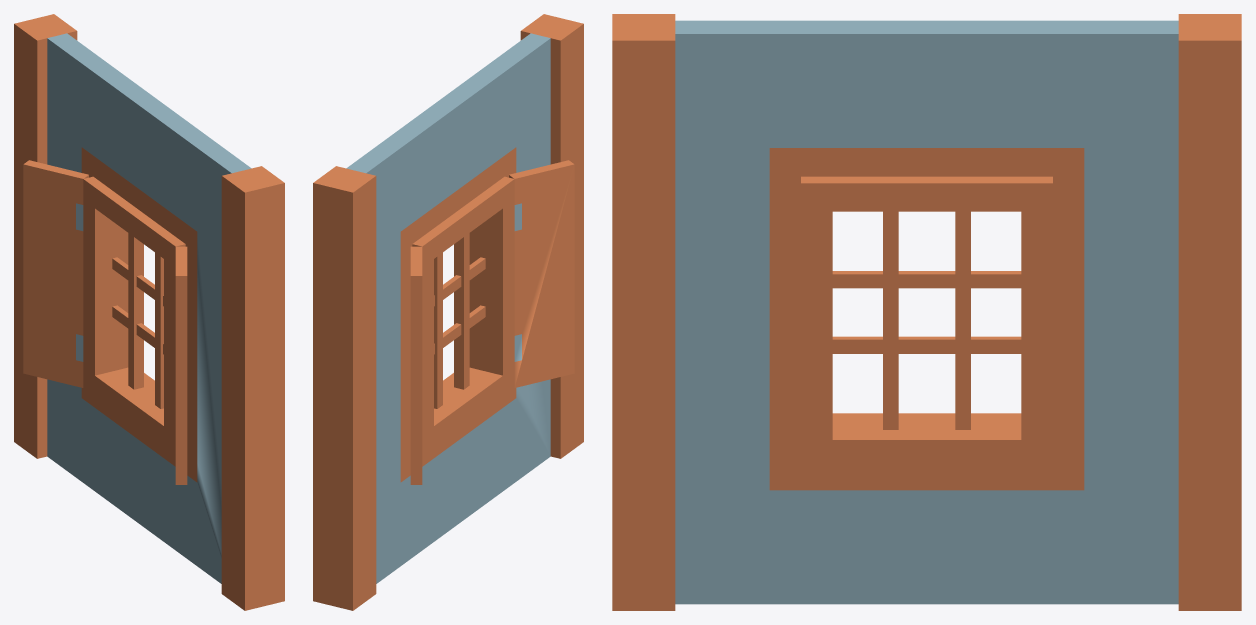
The model's file is wallWindow.obj.
3 renders of one model, left to right at view 1: azimuth 30°, elevation 25°; view 2: azimuth 150°, elevation 25°; view 3: azimuth 270°, elevation 25°, orthographic. The views are drawn at different scales.
Parts seen in each view (by area): view 1: wallWindowShutters; view 2: wallWindowShutters; view 3: wallWindowShutters.
Boxes of the visible parts, x1=… form: wallWindowShutters: x1=14, y1=14, x2=284, y2=610; wallWindowShutters: x1=313, y1=14, x2=583, y2=610; wallWindowShutters: x1=612, y1=14, x2=1241, y2=610.
Bounding box in the file's own units: 0.175 × 1 × 1.
